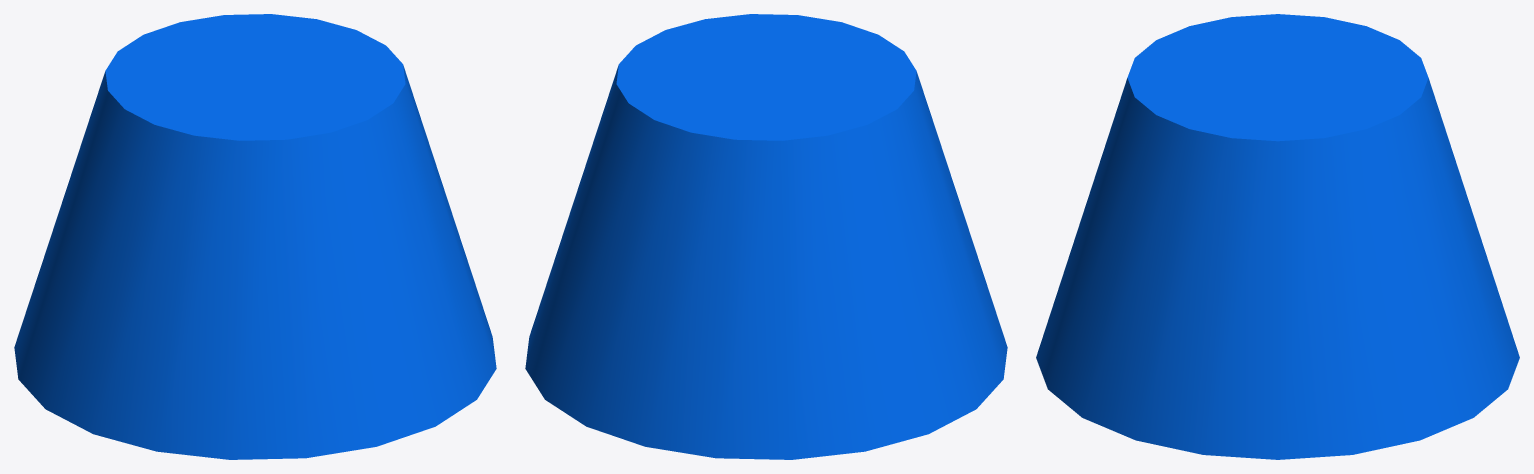
The model's file is magnet2.fbx.
The picture shows the model from 3 angles, left to right: view 1: azimuth 30°, elevation 25°; view 2: azimuth 150°, elevation 25°; view 3: azimuth 270°, elevation 25°; orthographic projection.
Visible parts, largest first — view 1: pCylinder2; view 2: pCylinder2; view 3: pCylinder2.
Part boxes in pixels (x1,y1,x2,y2): pCylinder2: (14,14,496,459); pCylinder2: (525,14,1007,459); pCylinder2: (1036,14,1519,459).
Size of the model in its own units: 80 by 51.09 by 80.
